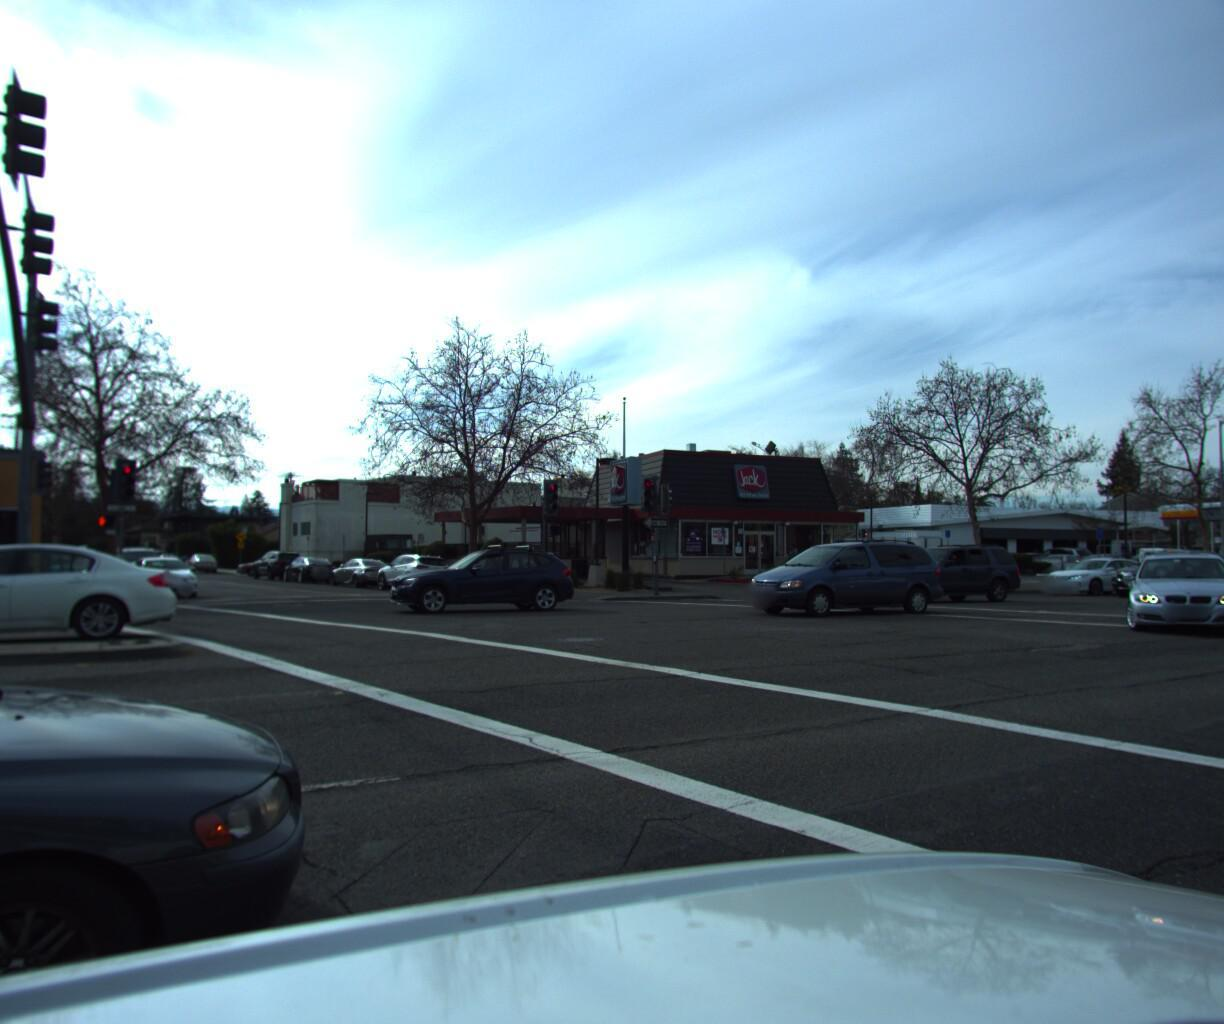car: (0, 554, 342, 1024), (0, 544, 176, 667), (731, 532, 944, 619), (369, 541, 565, 613), (876, 538, 1039, 600), (1125, 551, 1224, 640), (1107, 544, 1224, 593), (1028, 552, 1148, 591), (121, 554, 206, 604), (100, 544, 177, 598), (371, 549, 456, 594), (1116, 542, 1198, 577), (328, 556, 400, 588), (279, 554, 341, 584), (213, 553, 284, 576), (251, 548, 302, 577), (991, 529, 1051, 549), (305, 550, 355, 574), (362, 546, 400, 569), (182, 549, 221, 570), (1212, 525, 1224, 588), (1213, 547, 1224, 598)
